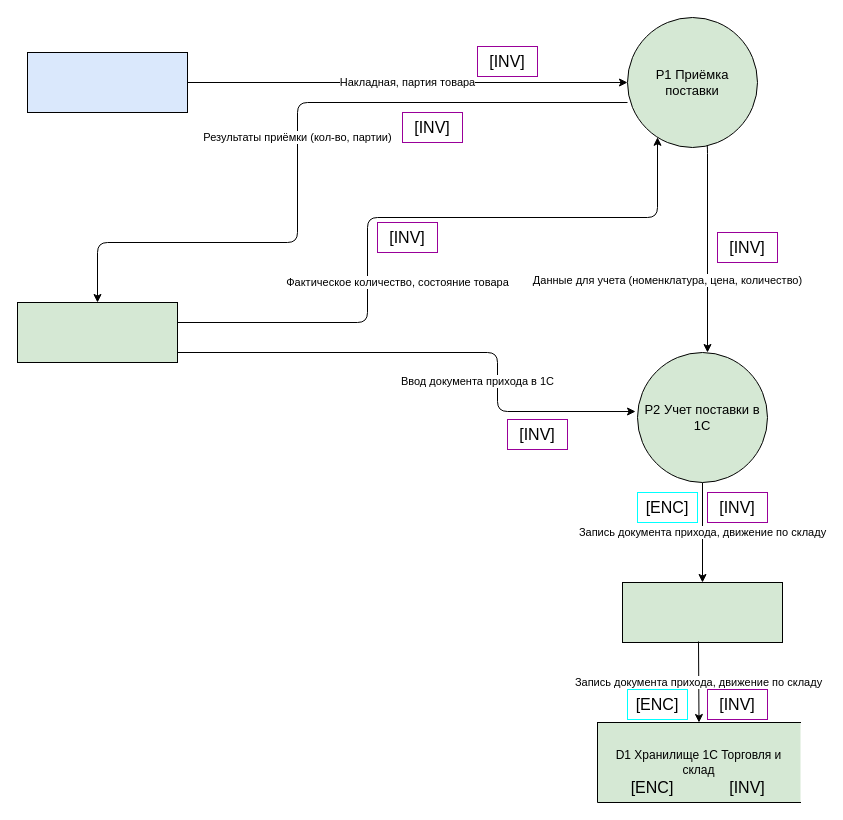
The diagram is 843 pixels wide and 820 high, and some of its shapes have lost their labels. Each missing label, with the box of its shape:
1С Торговля и склад: (622, 582, 782, 642)
Поставщик: (26, 52, 188, 112)
Сотрудник склада: (16, 302, 178, 362)
